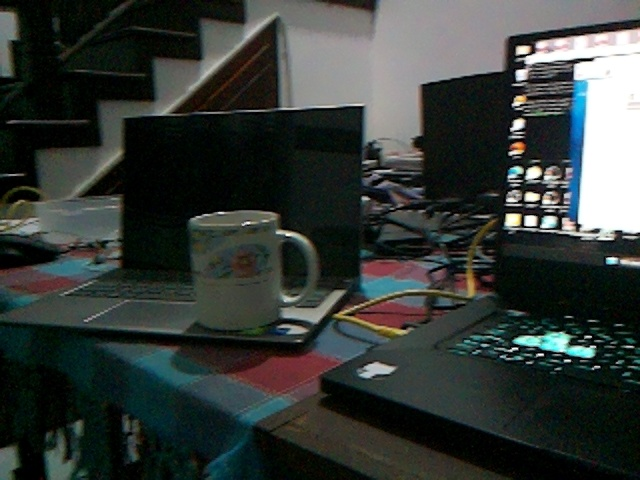mug: (184, 205, 321, 332)
